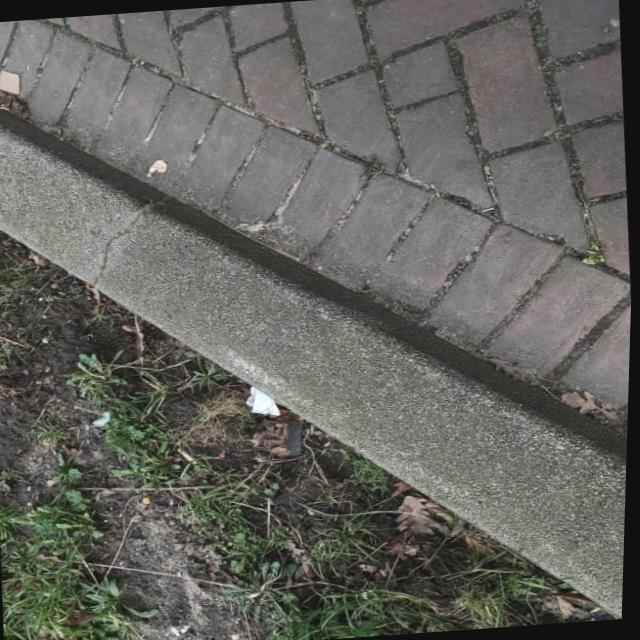Paper: (242, 382, 285, 419)
